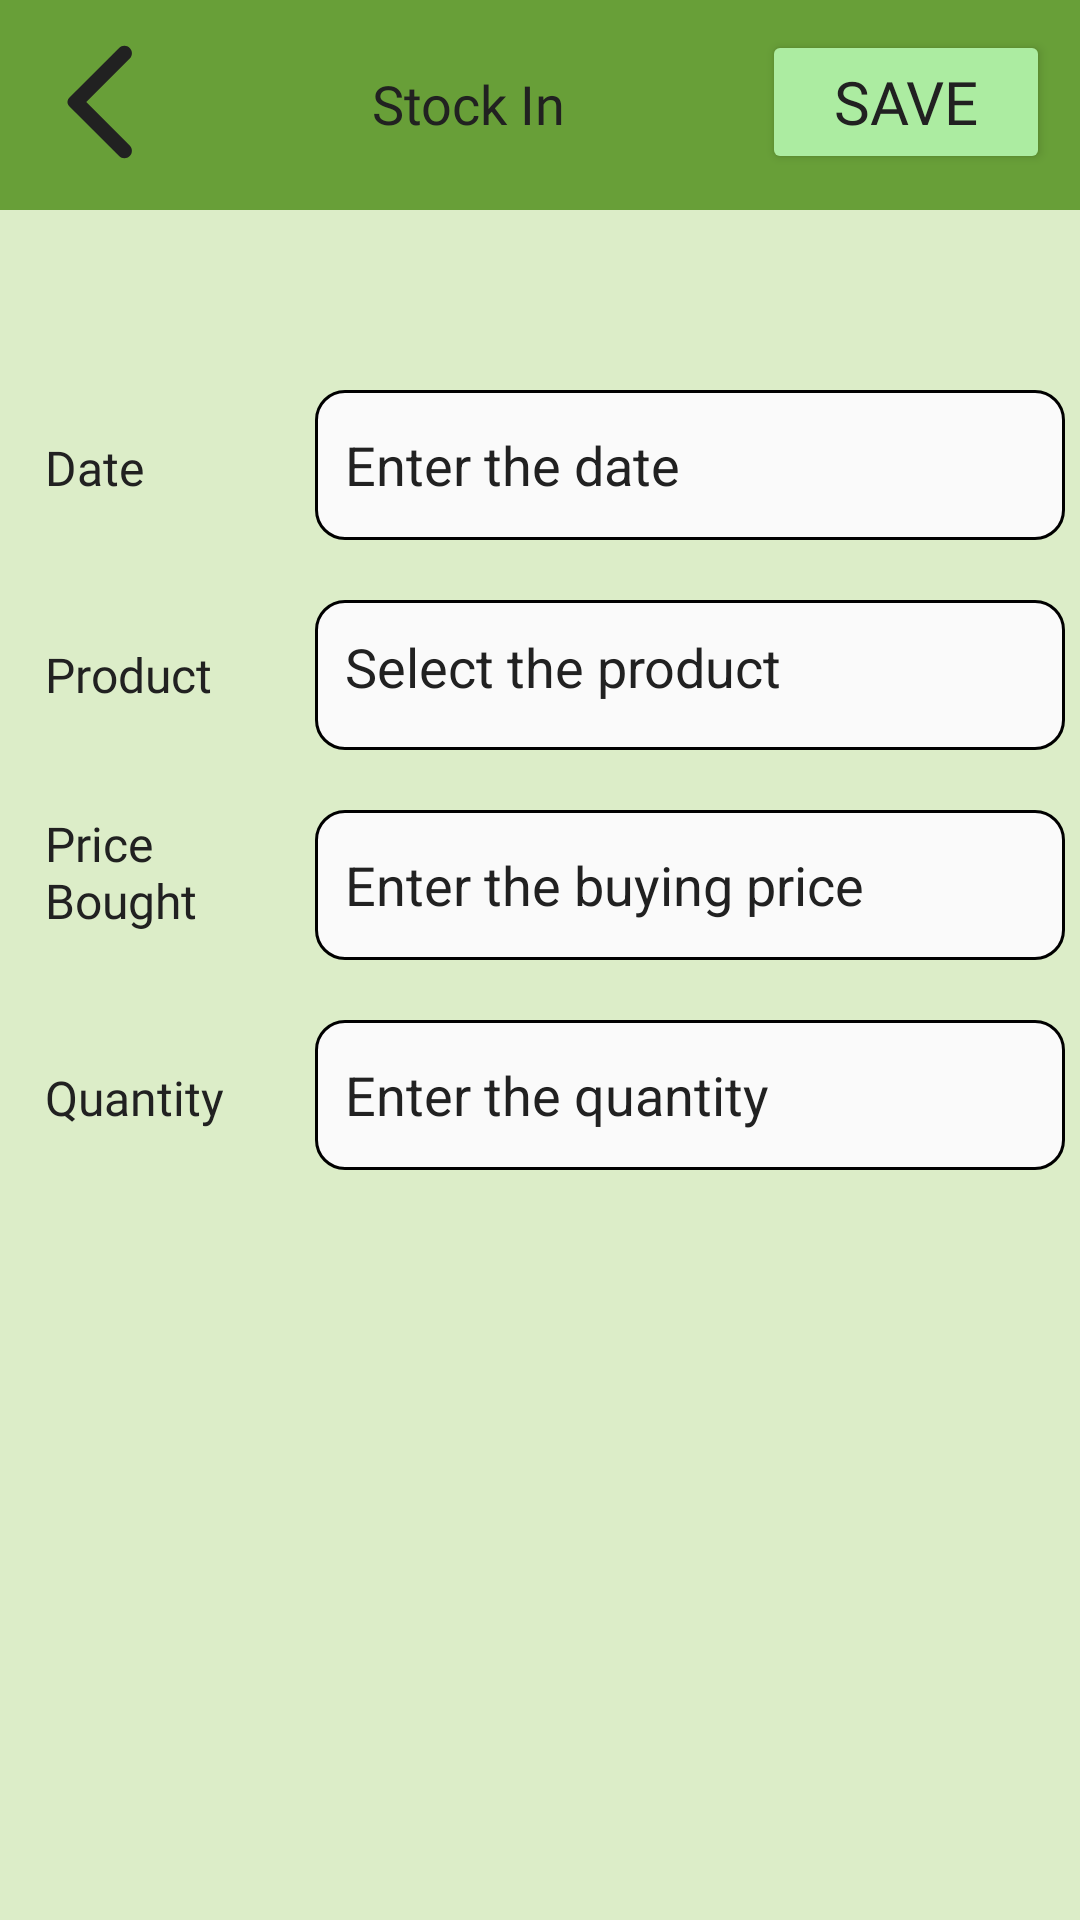

Where to tap for icons on this 1080w x 1920h app screen, as (x=x, y=y):
Back: (x=99, y=102)
